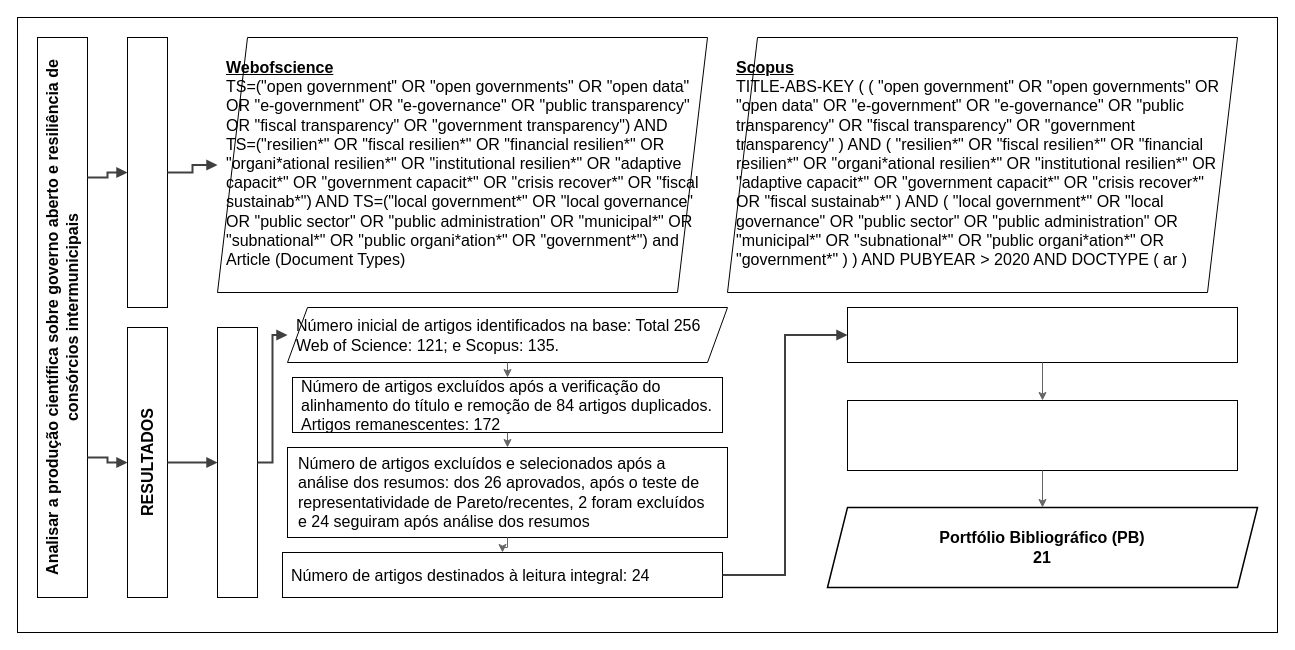
The diagram is 1295 pixels wide and 650 high, and some of its shapes have lost their labels. Each missing label, with the box of its shape:
ENTRADAS: (126, 36, 168, 308)
Filtragem do banco de dados: (216, 326, 258, 598)
Número de artigos disponíveis para acesso e leitura integral: 21: (846, 400, 1238, 470)
Número de artigos que não puderam ser acessados integralmente: 3: (846, 306, 1238, 362)
